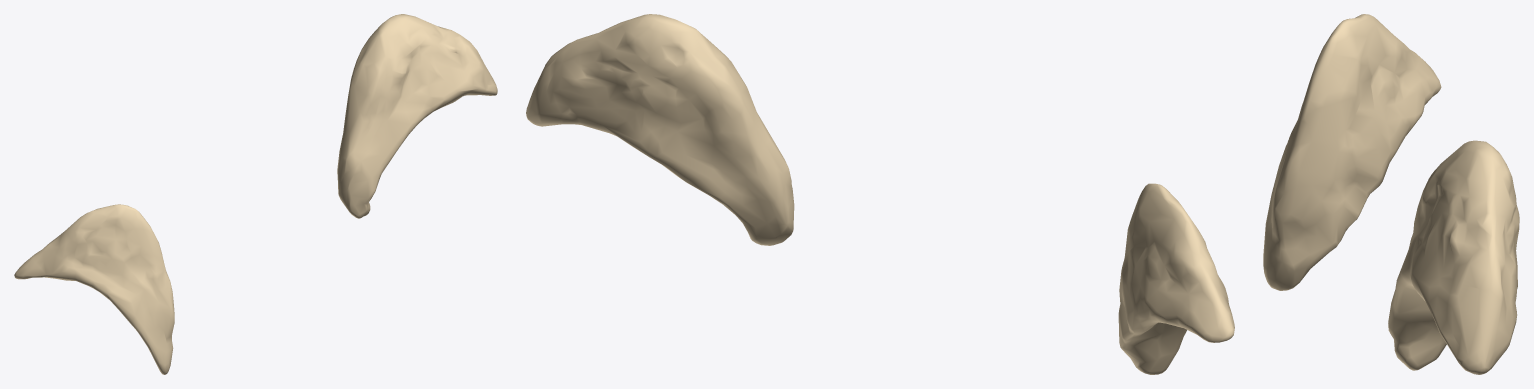
Rendered from adrenals.glb.
The picture shows the model from 3 angles, left to right: view 1: azimuth 30°, elevation 25°; view 2: azimuth 150°, elevation 25°; view 3: azimuth 270°, elevation 25°; orthographic projection. The views are drawn at different scales.
Visible parts, largest first — view 1: adrenalsMesh; view 2: adrenalsMesh; view 3: adrenalsMesh.
Boxes of the visible parts, x1,y1,x2,y2 form: adrenalsMesh: (14, 14, 497, 374); adrenalsMesh: (526, 14, 1234, 374); adrenalsMesh: (1263, 14, 1519, 374).
Size of the model in its own units: 0.138 by 0.0627 by 0.0392.
